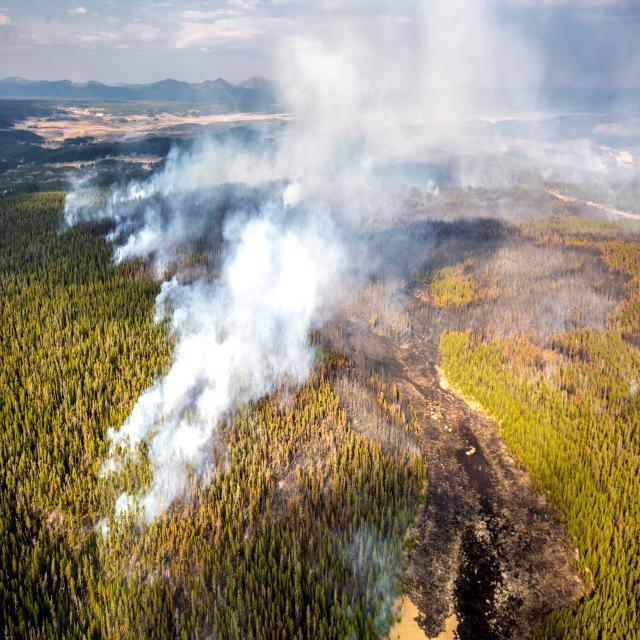Smoke: (102, 8, 540, 508)
